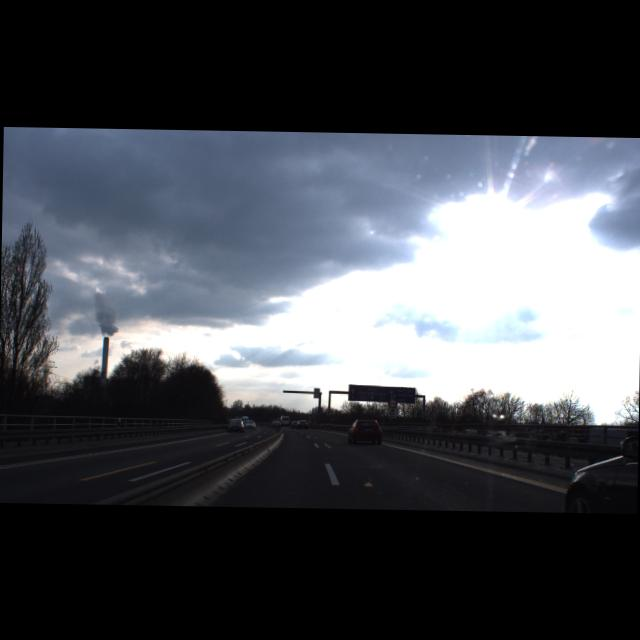prohibitory: (386, 398, 396, 408)
